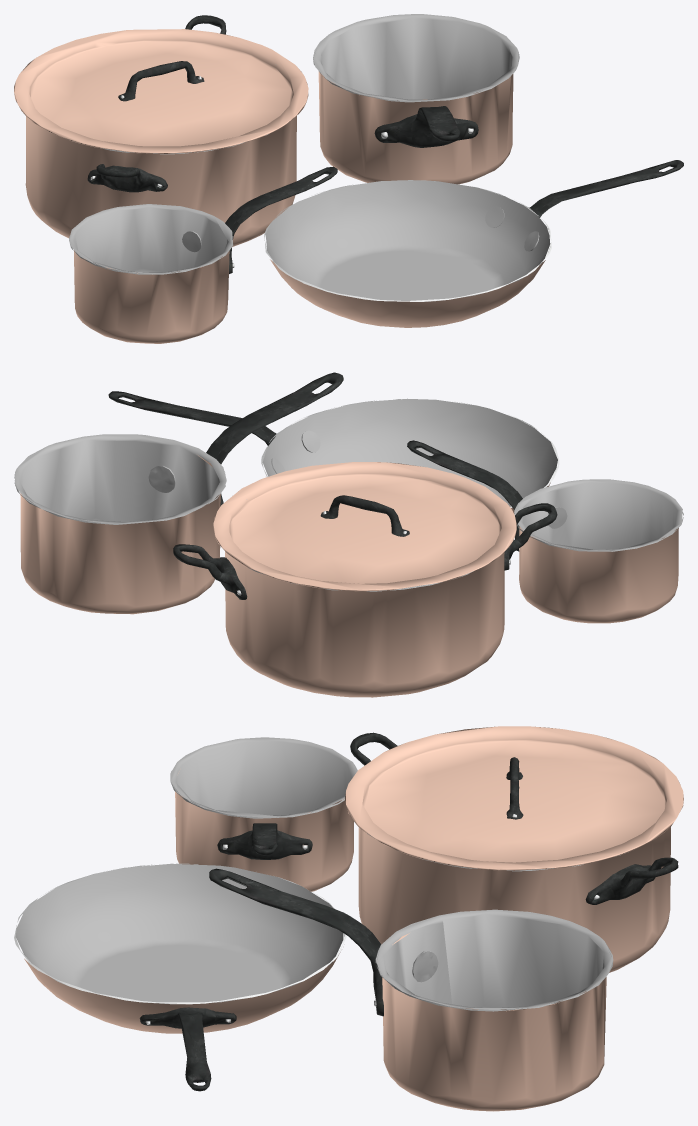
Rendered from pots.glb.
3 renders of one model, top to bottom at view 1: azimuth 30°, elevation 25°; view 2: azimuth 150°, elevation 25°; view 3: azimuth 270°, elevation 25°, orthographic. The views are drawn at different scales.
Parts seen in each view (by area): view 1: Copper-material, AluminiumBrushed-material, Cast_Iron-material, Aluminium-material; view 2: Copper-material, AluminiumBrushed-material, Cast_Iron-material, Aluminium-material; view 3: Copper-material, AluminiumBrushed-material, Cast_Iron-material, Aluminium-material.
Part boxes in pixels (bbox=[...]): Copper-material: bbox=[14, 29, 545, 343]; AluminiumBrushed-material: bbox=[69, 14, 550, 301]; Cast_Iron-material: bbox=[87, 15, 683, 273]; Aluminium-material: bbox=[69, 49, 551, 301]; Copper-material: bbox=[20, 455, 678, 697]; AluminiumBrushed-material: bbox=[15, 398, 682, 550]; Cast_Iron-material: bbox=[108, 372, 557, 599]; Aluminium-material: bbox=[14, 399, 683, 595]; Copper-material: bbox=[24, 726, 683, 1111]; AluminiumBrushed-material: bbox=[15, 737, 613, 1009]; Cast_Iron-material: bbox=[139, 732, 678, 1091]; Aluminium-material: bbox=[14, 766, 620, 1024].
Size of the model in its own units: 0.9 by 0.2126 by 0.7901.
5 materials, 1 textured.
